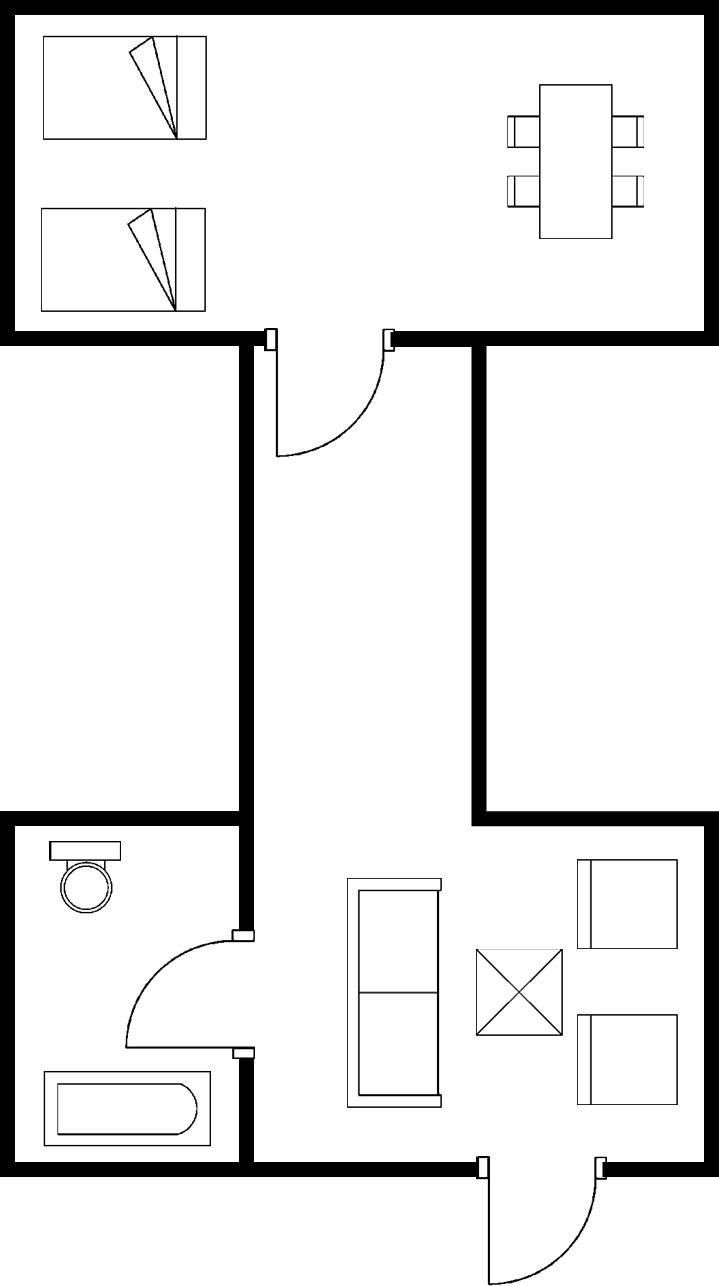bed: (30, 197, 217, 322), (35, 27, 217, 150)
coffee_table: (470, 942, 570, 1049)
dining_table: (495, 75, 656, 252)
large_sink: (36, 833, 139, 918)
large_sofa: (340, 869, 452, 1122)
small_sofa: (564, 848, 681, 959), (570, 1008, 689, 1116)
tub: (30, 1061, 220, 1156)
